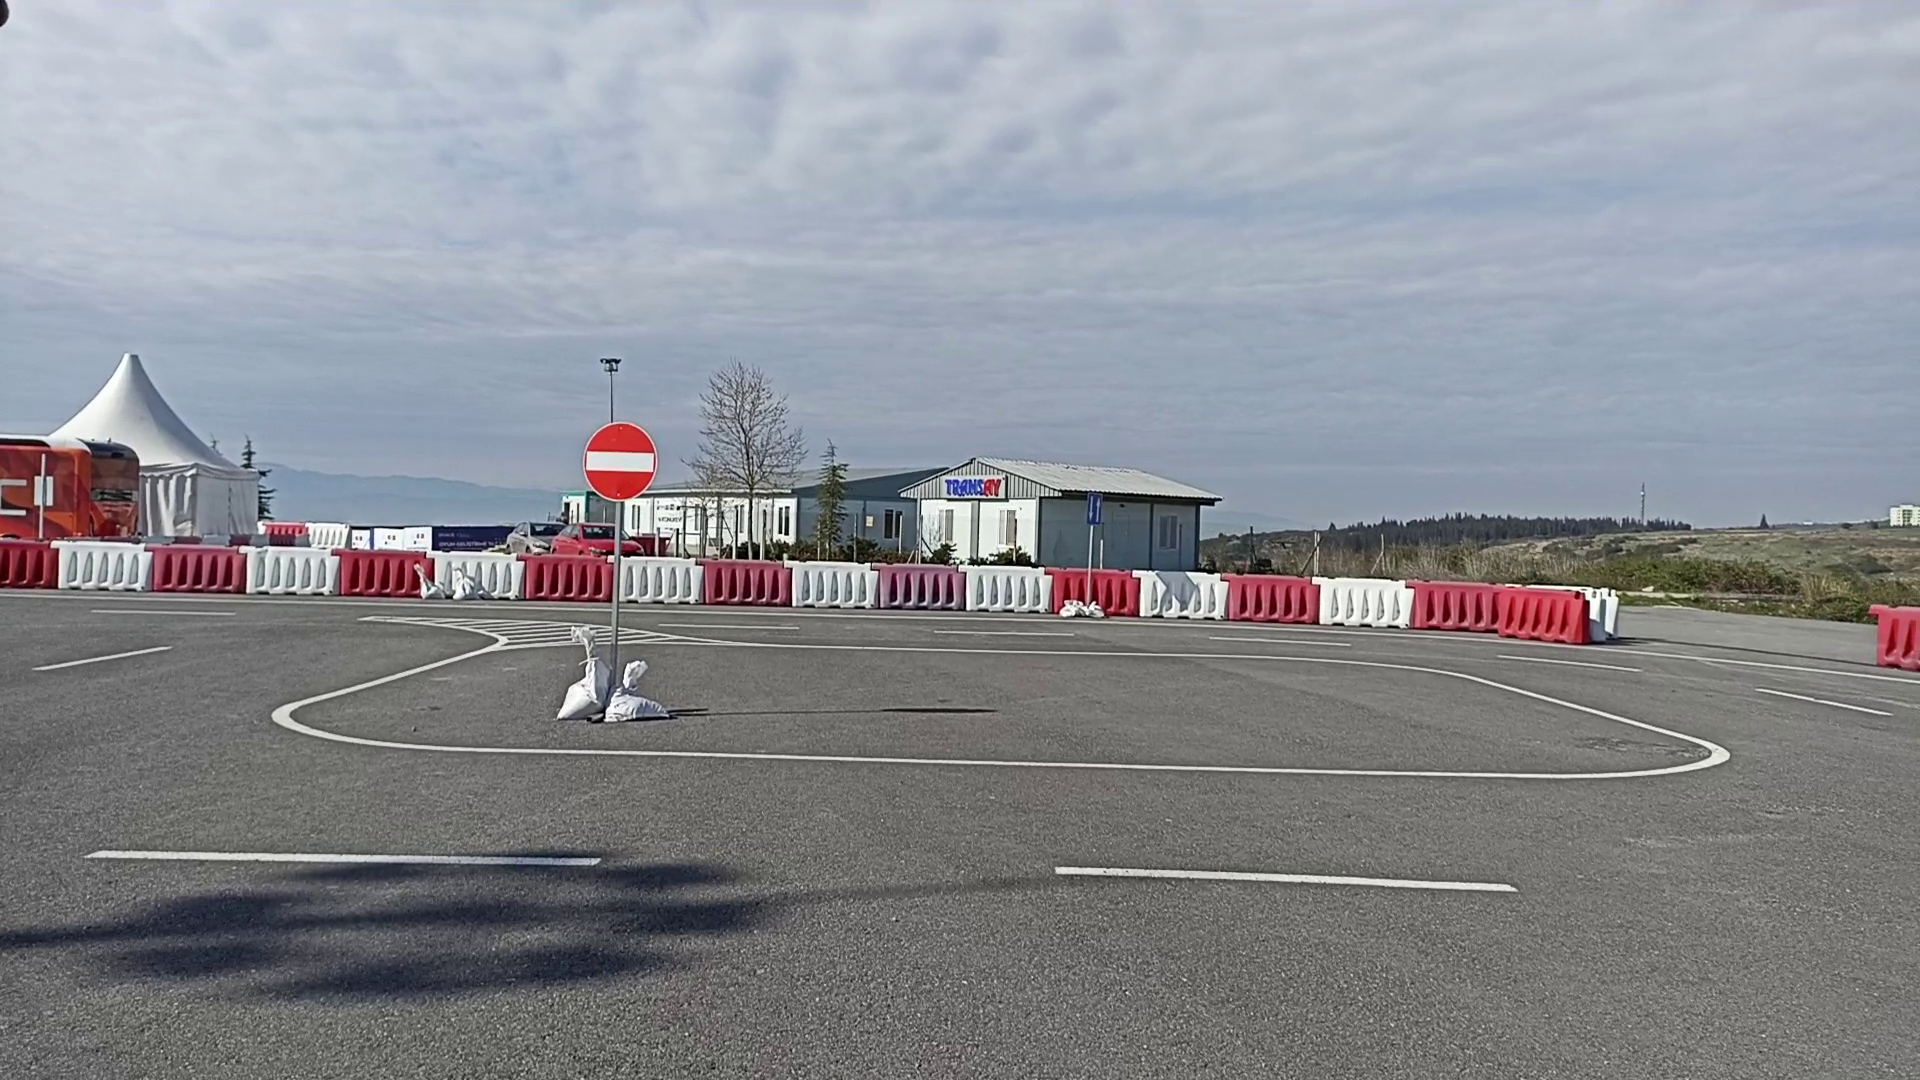noentryway: (582, 421, 659, 502)
